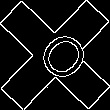O_SW: (22, 22, 88, 88)
